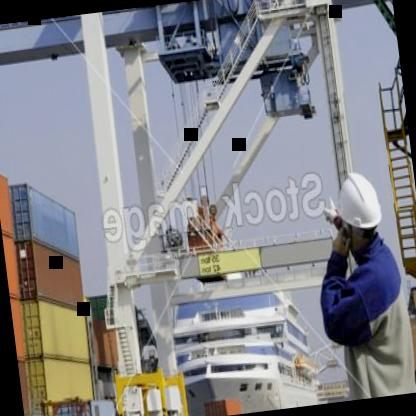helmet: (329, 166, 391, 255)
